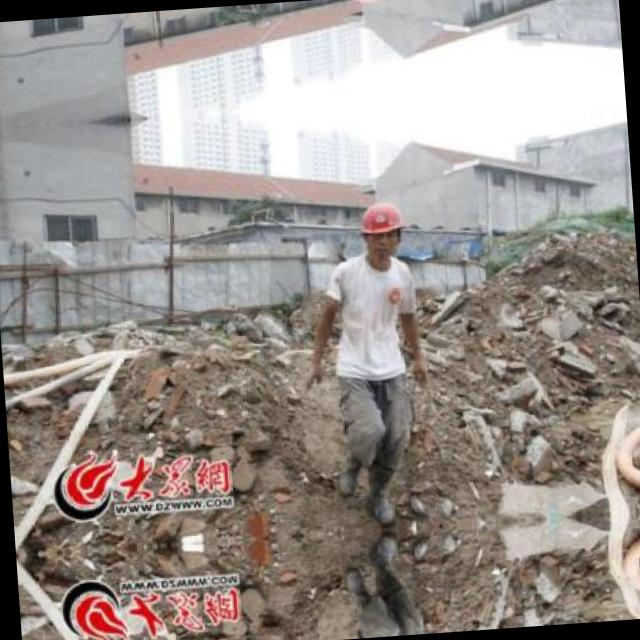helmet: (354, 194, 408, 264)
